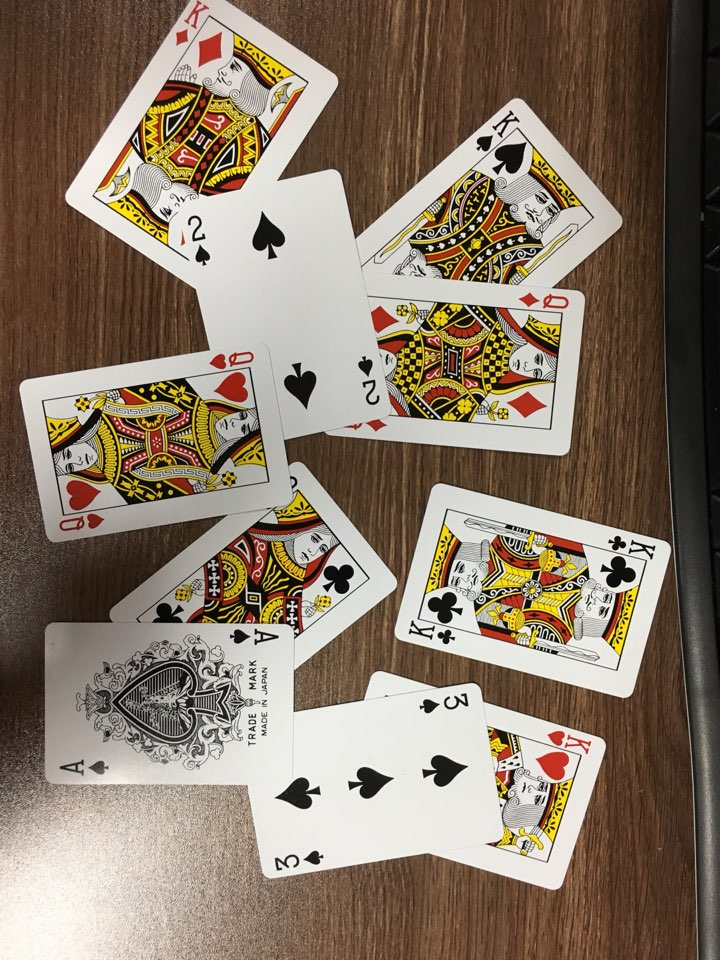ace: (30, 611, 301, 798)
king: (62, 1, 346, 312), (332, 91, 628, 347), (389, 478, 677, 704), (337, 668, 614, 898)
queen: (102, 458, 406, 733), (14, 341, 299, 550), (298, 267, 595, 464)
